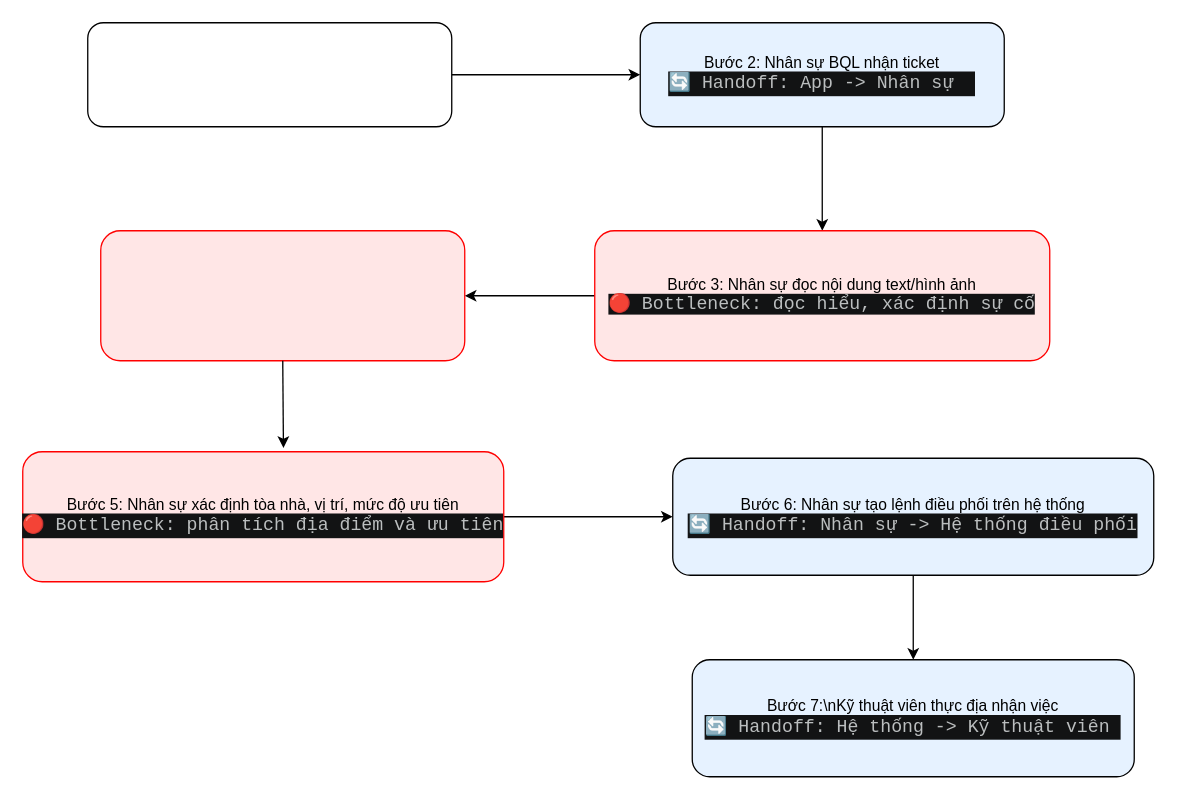
The diagram is 1177 pixels wide and 800 high, and some of its shapes have lost their labels. The centre of each missing label's shape, as x and y in pixels:
Bước 1: Cư dân gửi ticket lên App: the point at 269,74
Bước 4: Nhân sự gắn tag phân loại sự cố 🔴 Bottleneck: phân loại thủ công: the point at 282,295
